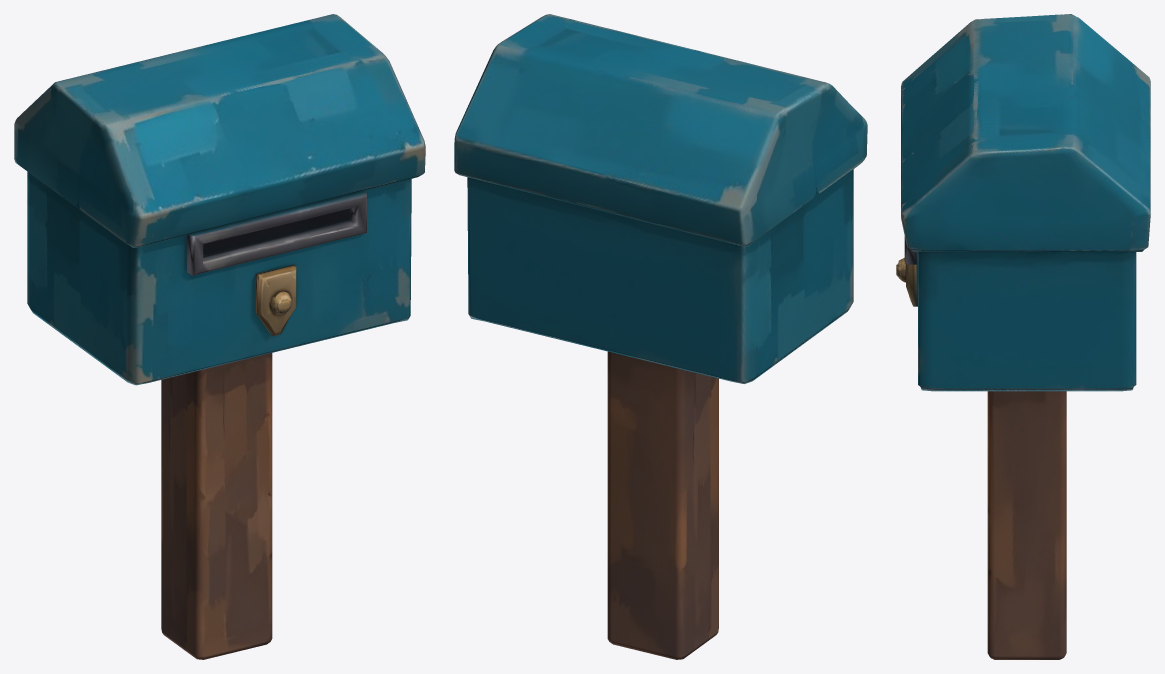
Rendered from mailbox-teal.glb.
3 renders of one model, left to right at view 1: azimuth 30°, elevation 25°; view 2: azimuth 150°, elevation 25°; view 3: azimuth 270°, elevation 25°, orthographic. The views are drawn at different scales.
Visible parts, largest first — view 1: tripo_node_c40380aa-4544-4ddd-b4c2-deb191ff8e65; view 2: tripo_node_c40380aa-4544-4ddd-b4c2-deb191ff8e65; view 3: tripo_node_c40380aa-4544-4ddd-b4c2-deb191ff8e65.
Part boxes in pixels (<box>): tripo_node_c40380aa-4544-4ddd-b4c2-deb191ff8e65: <box>14,14,425,659</box>; tripo_node_c40380aa-4544-4ddd-b4c2-deb191ff8e65: <box>454,14,867,659</box>; tripo_node_c40380aa-4544-4ddd-b4c2-deb191ff8e65: <box>896,14,1150,659</box>.
Size of the model in its own units: 0.5963 by 1.1 by 0.4499.
Materials: 1 (1 with a texture image).
